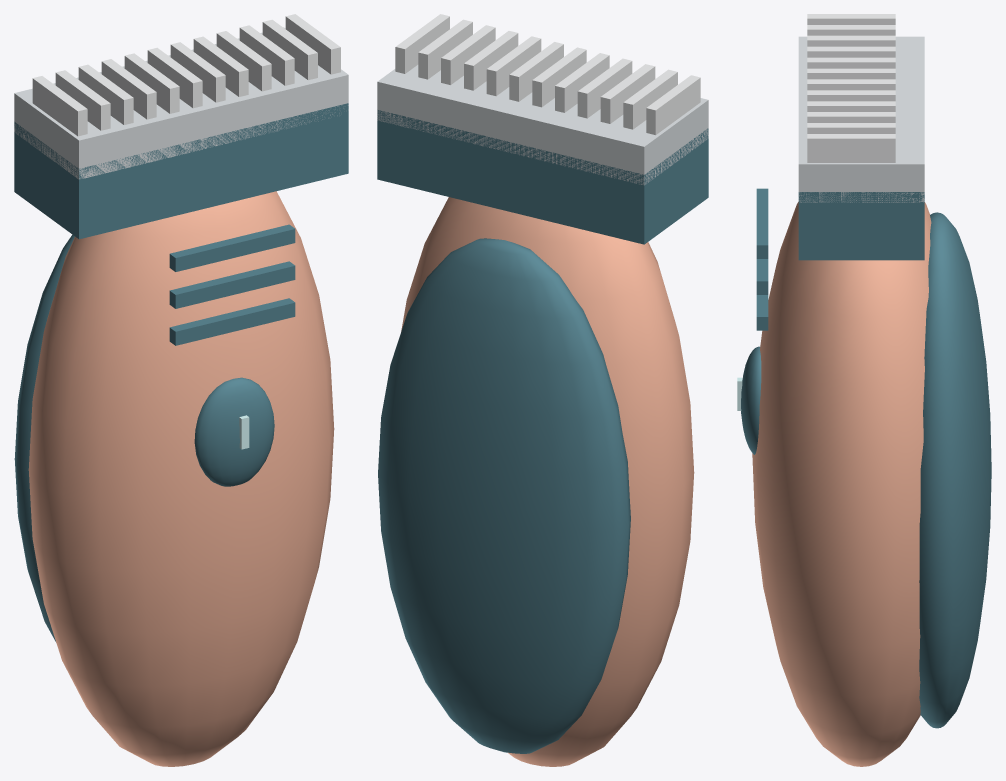
Rendered from turbo.glb.
3 views of the same model, side by side, from view 1: azimuth 30°, elevation 25°; view 2: azimuth 150°, elevation 25°; view 3: azimuth 270°, elevation 25° (orthographic). The views are drawn at different scales.
Parts seen in each view (by area): view 1: Grip, Blade_mount, Blade_plate, Power_button, Rubber_back, Vent_1, Vent_0, Vent_2, Tooth_0, Tooth_1, Tooth_6, Tooth_8 (+8 smaller); view 2: Rubber_back, Grip, Blade_mount, Blade_plate, Tooth_0, Tooth_2, Tooth_7, Tooth_3, Tooth_11, Tooth_6, Tooth_1, Tooth_4 (+4 smaller); view 3: Grip, Rubber_back, Blade_plate, Blade_mount, Tooth_11, Power_button, Tooth_2, Tooth_3, Tooth_4, Tooth_5, Tooth_6, Tooth_7 (+8 smaller).
Part boxes in pixels (bbox=[...]): Grip: bbox=[28, 191, 334, 766]; Blade_mount: bbox=[14, 103, 348, 239]; Blade_plate: bbox=[14, 27, 348, 179]; Power_button: bbox=[194, 377, 274, 486]; Rubber_back: bbox=[14, 234, 74, 641]; Vent_1: bbox=[169, 261, 295, 308]; Vent_0: bbox=[169, 298, 295, 345]; Vent_2: bbox=[169, 224, 295, 271]; Tooth_0: bbox=[32, 76, 87, 136]; Tooth_1: bbox=[55, 70, 110, 130]; Tooth_6: bbox=[170, 42, 225, 102]; Tooth_8: bbox=[216, 31, 271, 91]; Rubber_back: bbox=[378, 238, 630, 753]; Grip: bbox=[401, 197, 694, 766]; Blade_mount: bbox=[377, 110, 708, 244]; Blade_plate: bbox=[377, 65, 708, 185]; Tooth_0: bbox=[646, 75, 700, 135]; Tooth_2: bbox=[600, 64, 655, 123]; Tooth_7: bbox=[486, 36, 541, 96]; Tooth_3: bbox=[577, 58, 632, 118]; Tooth_11: bbox=[395, 14, 449, 73]; Tooth_6: bbox=[509, 42, 563, 101]; Tooth_1: bbox=[623, 69, 677, 129]; Tooth_4: bbox=[555, 53, 609, 112]; Grip: bbox=[752, 202, 931, 766]; Rubber_back: bbox=[919, 212, 991, 728]; Blade_plate: bbox=[798, 36, 924, 202]; Blade_mount: bbox=[798, 192, 924, 260]; Tooth_11: bbox=[807, 134, 895, 162]; Power_button: bbox=[741, 346, 761, 454]; Tooth_2: bbox=[807, 35, 895, 46]; Tooth_3: bbox=[807, 46, 895, 57]; Tooth_4: bbox=[807, 57, 895, 68]; Tooth_5: bbox=[807, 68, 895, 79]; Tooth_6: bbox=[807, 79, 895, 90]; Tooth_7: bbox=[807, 90, 895, 101].
Size of the model in its own units: 0.38 by 0.898 by 0.303.
